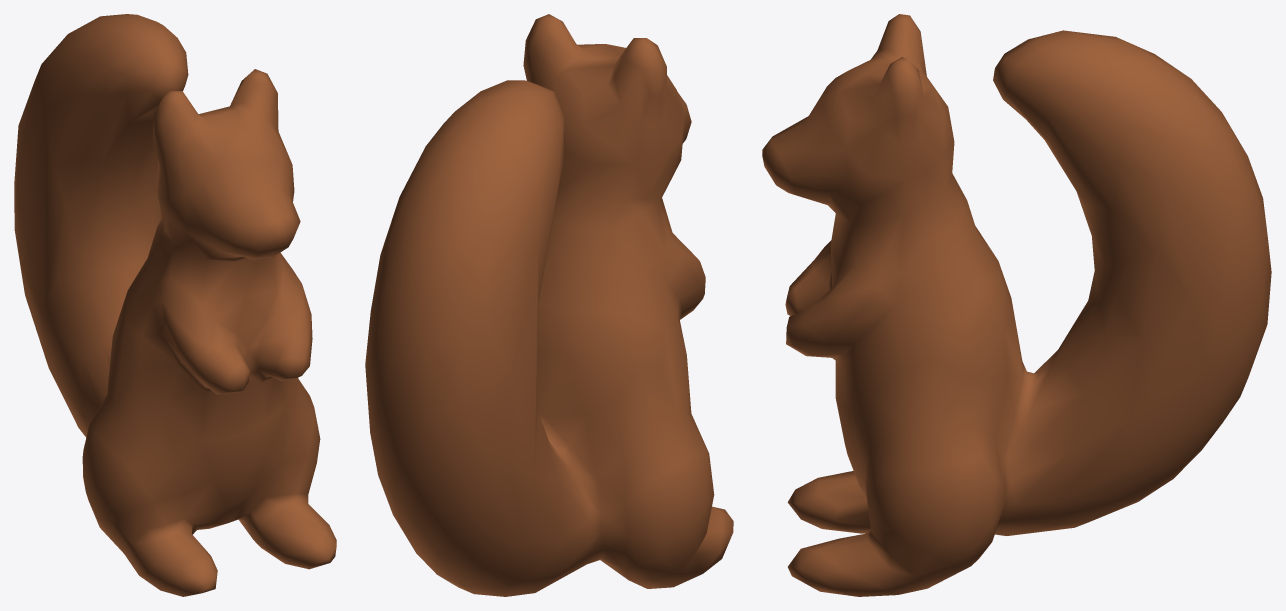
The model's file is NEW_RECOVERY_007_LOD2.glb.
3 views of the same model, side by side, from view 1: azimuth 30°, elevation 25°; view 2: azimuth 150°, elevation 25°; view 3: azimuth 270°, elevation 25° (orthographic). The views are drawn at different scales.
Parts seen in each view (by area): view 1: NEW_RECOVERY_007_LOD2; view 2: NEW_RECOVERY_007_LOD2; view 3: NEW_RECOVERY_007_LOD2.
Boxes of the visible parts, <box> form: NEW_RECOVERY_007_LOD2: <box>14,14,336,596</box>; NEW_RECOVERY_007_LOD2: <box>365,14,733,596</box>; NEW_RECOVERY_007_LOD2: <box>762,14,1271,596</box>.
Size of the model in its own units: 0.1172 by 0.2467 by 0.216.
